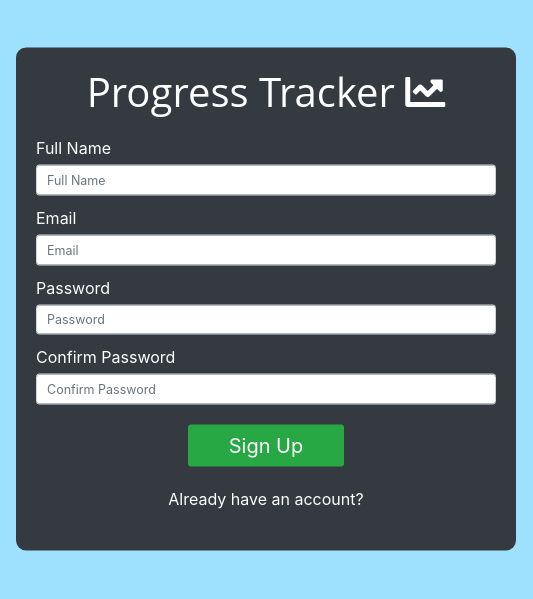
The Register component › renders an error when passwords dont match
Type "password" into the password field with placeholder "Password" at (266, 319), box [36, 304, 496, 335]
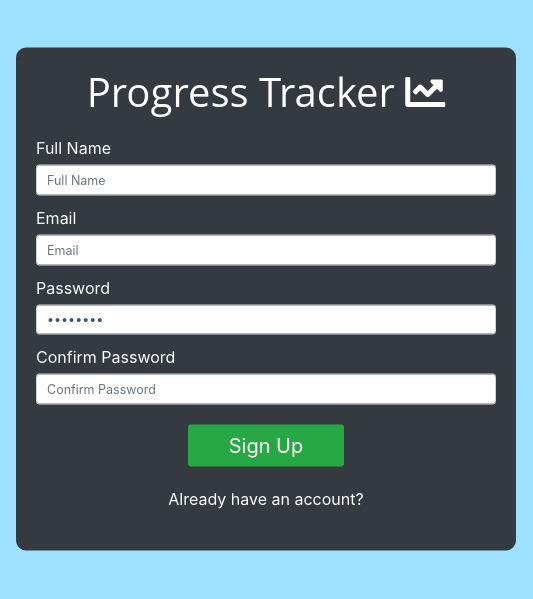
Type "passworx" into the password field with placeholder "Confirm Password" at (266, 389), box [36, 374, 496, 405]
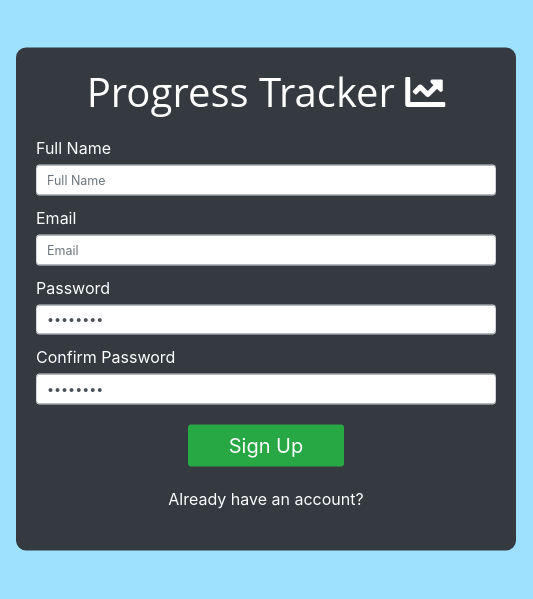
Click the button "Sign Up" at (266, 446), box [188, 424, 344, 466]
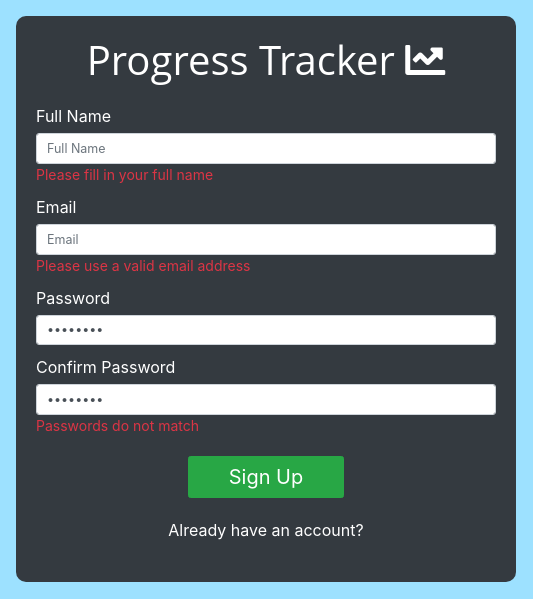
Now the text "Passwords do not match" is shown, box [36, 417, 199, 434]
